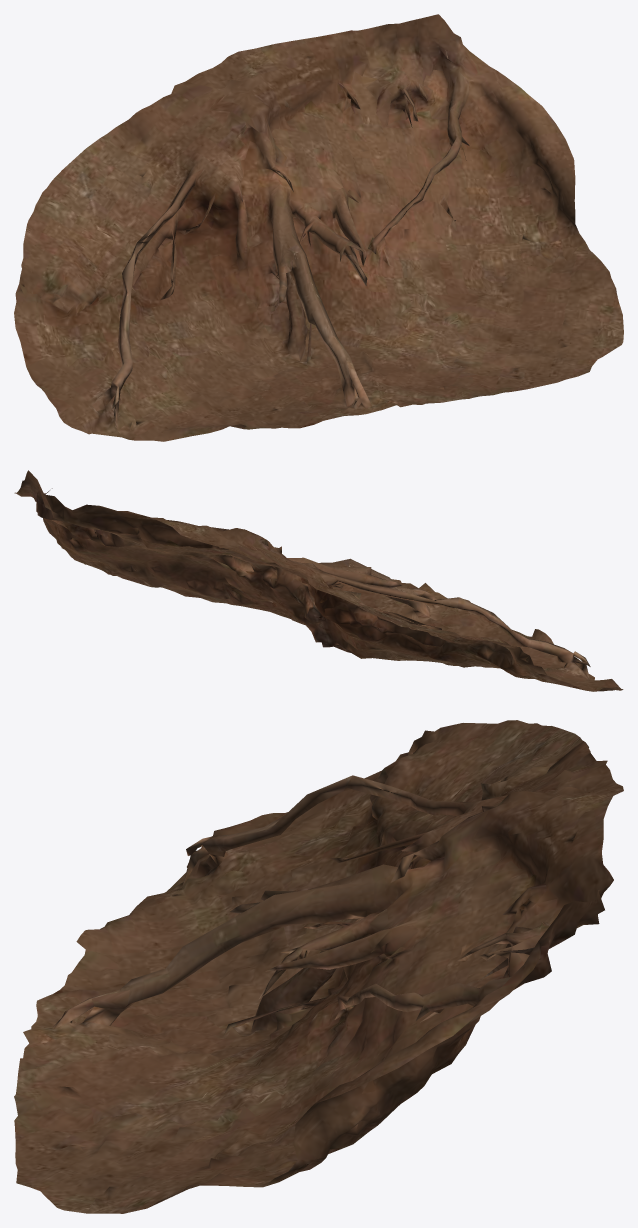
The model's file is root_cluster_01.glb.
The picture shows the model from 3 angles, top to bottom: view 1: azimuth 30°, elevation 25°; view 2: azimuth 150°, elevation 25°; view 3: azimuth 270°, elevation 25°; orthographic projection. The views are drawn at different scales.
Parts seen in each view (by area): view 1: root_cluster_01; view 2: root_cluster_01; view 3: root_cluster_01.
Part boxes in pixels (x1,y1,x2,y2): root_cluster_01: (14,14,623,441); root_cluster_01: (14,470,623,691); root_cluster_01: (14,720,623,1213).
Size of the model in its own units: 4.12 by 1.51 by 2.68.
Materials: 1 (1 with a texture image).
